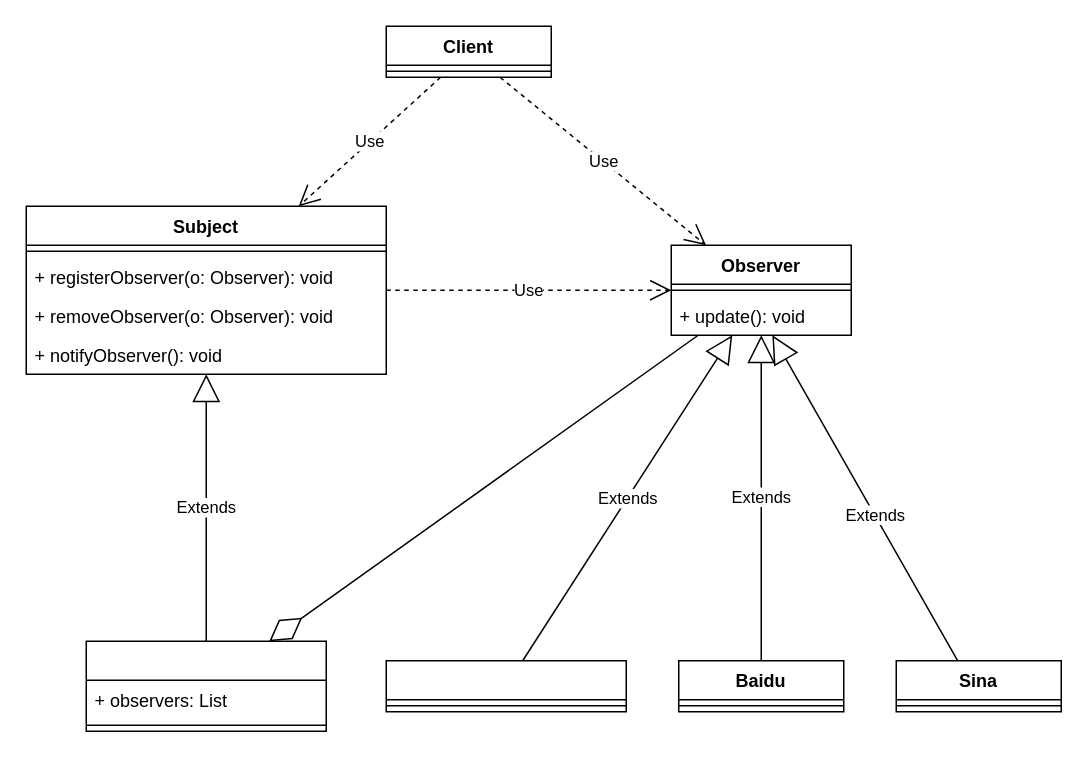
Some shapes in this 1088 by 758 pixel diagram are drawn without their labels. Here are the shapes that lost their labels. From the top down, the box of each, then its label:
(85, 640, 326, 731): WeatherData
(385, 659, 626, 712): CurrentCondition
